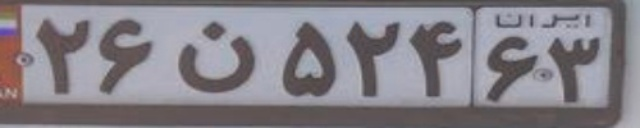2: (343, 19, 402, 98), (31, 17, 88, 96)
3: (544, 34, 604, 103)
4: (407, 19, 462, 98)
5: (283, 20, 336, 97)
6: (94, 18, 152, 93), (479, 35, 538, 102)
non: (174, 21, 253, 93)
